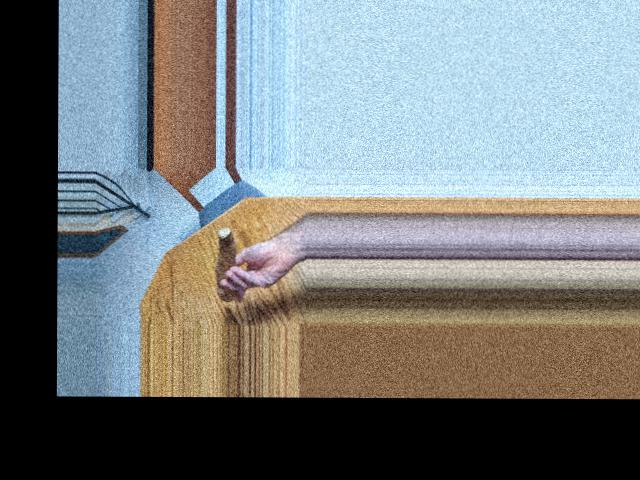sweet_potato: (209, 232, 241, 297)
